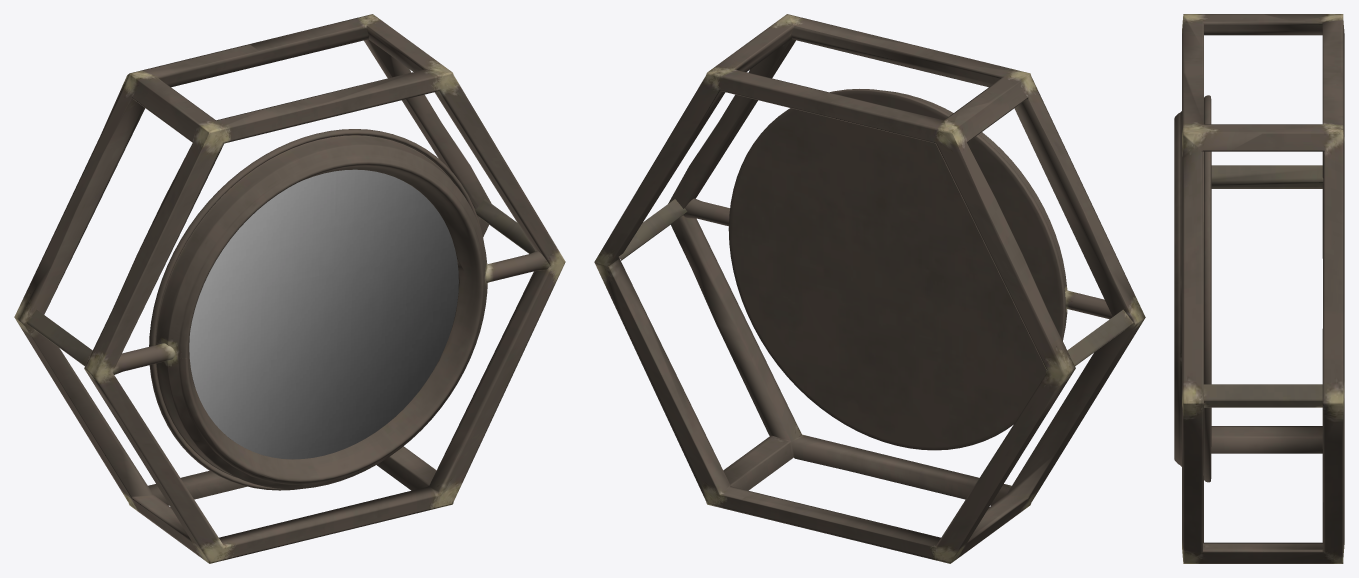
The model's file is B073WGMTCC.glb.
3 renders of one model, left to right at view 1: azimuth 30°, elevation 25°; view 2: azimuth 150°, elevation 25°; view 3: azimuth 270°, elevation 25°, orthographic.
Visible parts, largest first — view 1: RootNode; view 2: RootNode; view 3: RootNode.
Part boxes in pixels (x1,y1,x2,y2): RootNode: (14,14,565,563); RootNode: (594,14,1145,563); RootNode: (1174,14,1344,563).
Bounding box in the file's own units: 0.3805 × 0.3338 × 0.119.
1 material, 1 textured.
